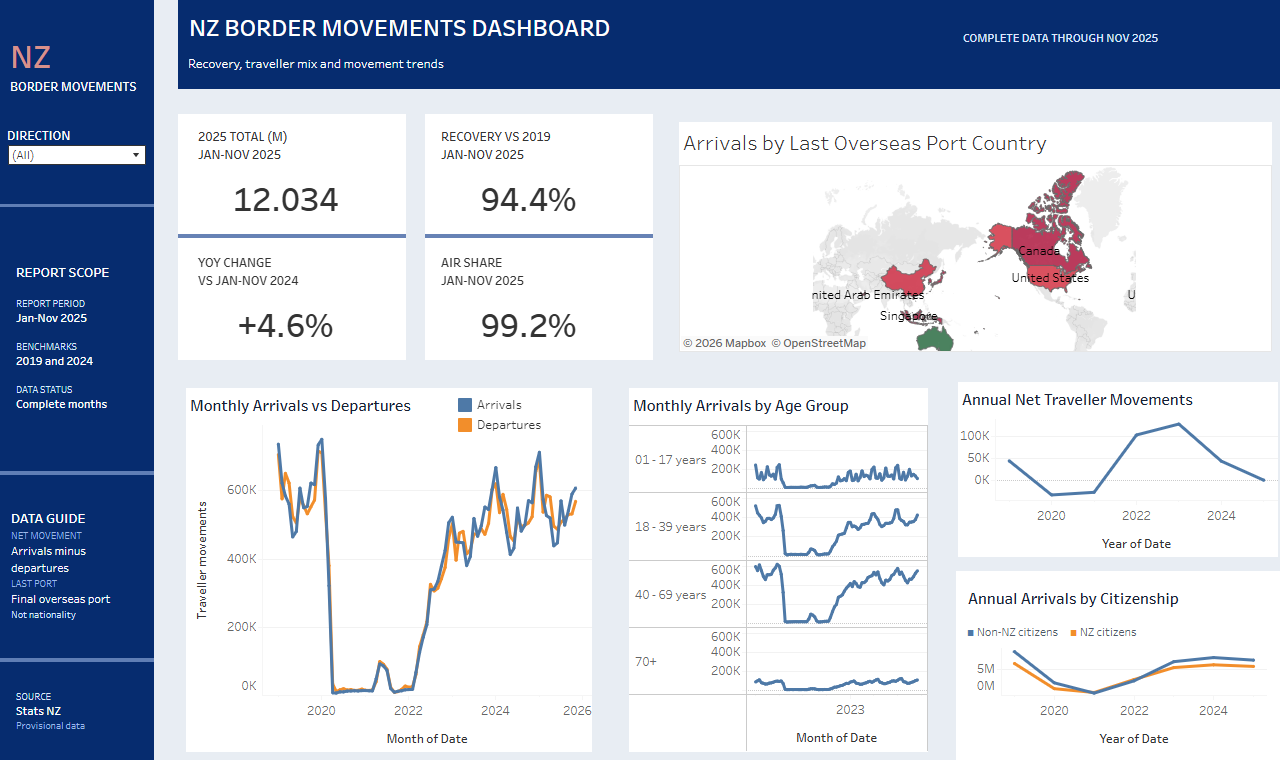

Layout of this report page (visuals, bound fields, positions):
{"tool":"tableau","page":{"name":"New Zealand Border Movement Recovery Monitor","canvas":[1280,760],"ordinal":1},"visuals":[{"type":"text","box":[0,0,154.1,760]},{"type":"text","box":[178.2,0,1101.8,89]},{"type":"text","box":[186.3,6.4,609.8,38.2]},{"type":"text","box":[10,13,127,102]},{"type":"text","box":[961,22.3,302.9,28.6]},{"type":"text","box":[186.3,50.9,549.5,23.8]},{"type":"text","box":[178.2,113.7,227.9,246.4]},{"type":"text","box":[424.9,113.7,227.9,246.4]},{"type":"worksheet","title":"Arrivals by Last Overseas Port Country","mark":"Automatic","box":[671.5,113.7,608.5,246.4]},{"type":"worksheet","title":"2025 Movements (M)","mark":"Automatic","box":[194,121,183,102]},{"type":"worksheet","title":"KPI Recovery vs 2019","mark":"Automatic","box":[437,121,183,102]},{"type":"filter","title":"Monthly Arrivals vs Departures","param":"[federated.0usvi7l1mmfuyz14ohd3u0z4gxtj].[none:direction_code:nk]","box":[7,126,140,50]},{"type":"blank","box":[193,129.6,198.4,91.4]},{"type":"blank","box":[439.6,129.6,198.4,103.3]},{"type":"text","box":[0,203.5,154.1,4]},{"type":"text","box":[12,221,127.3,230.5]},{"type":"text","box":[178.2,233.7,227.9,4]},{"type":"text","box":[425,234,228,4]},{"type":"worksheet","title":"KPI Change vs 2024","mark":"Automatic","rows":["citizenship"],"box":[194,247,183,102]},{"type":"worksheet","title":"KPI Air Share 2025","mark":"Automatic","box":[437,247,183,102]},{"type":"blank","box":[193,250.4,198.4,83.5]},{"type":"blank","box":[439.6,250.4,198.4,99.4]},{"type":"worksheet","title":"Monthly Arrivals vs Departures","mark":"Automatic","rows":["total_movements"],"cols":["date"],"box":[178.2,380,422.2,380]},{"type":"worksheet","title":"Monthly Arrivals by Age Group","mark":"Automatic","rows":["age_at_travel_range","total_movements"],"cols":["date"],"box":[620.6,380,315,380]},{"type":"worksheet","title":"Annual Net Traveller Movements","mark":"Automatic","rows":["Calculation_0304857685766144"],"cols":["date"],"box":[955.6,380,324.4,178.9]},{"type":"legend","title":"Monthly Arrivals vs Departures","param":"[federated.0usvi7l1mmfuyz14ohd3u0z4gxtj].[none:direction_code:nk]","box":[455,395,135,60]},{"type":"text","box":[0,471.4,154.1,4]},{"type":"text","box":[6.7,491.3,140.7,147.1]},{"type":"text","box":[955.6,570.8,324.4,189.2]},{"type":"text","box":[966.3,580.3,302.9,34.2]},{"type":"text","box":[966.3,614.5,302.9,31]},{"type":"worksheet","title":"Yearly Arrivals by Citizenship","mark":"Automatic","rows":["total_movements"],"cols":["date"],"box":[966.3,646.3,302.9,107.3]},{"type":"text","box":[0,658.2,154.1,4]},{"type":"text","box":[12,678.1,127.3,63.6]}]}

Visuals, with their boxes in screenshot pixels (x1, y1, x2, y2), scaled from the page's 1280x760 canvas onto the 1280x760 screenshot:
text: pyautogui.locateOnScreen(0, 0, 154, 759)
text: pyautogui.locateOnScreen(178, 0, 1279, 89)
text: pyautogui.locateOnScreen(186, 6, 796, 45)
text: pyautogui.locateOnScreen(10, 13, 137, 115)
text: pyautogui.locateOnScreen(961, 22, 1264, 51)
text: pyautogui.locateOnScreen(186, 51, 736, 75)
text: pyautogui.locateOnScreen(178, 114, 406, 360)
text: pyautogui.locateOnScreen(425, 114, 653, 360)
"Arrivals by Last Overseas Port Country" worksheet: pyautogui.locateOnScreen(672, 114, 1279, 360)
"2025 Movements (M)" worksheet: pyautogui.locateOnScreen(194, 121, 377, 223)
"KPI Recovery vs 2019" worksheet: pyautogui.locateOnScreen(437, 121, 620, 223)
"Monthly Arrivals vs Departures" filter: pyautogui.locateOnScreen(7, 126, 147, 176)
blank: pyautogui.locateOnScreen(193, 130, 391, 221)
blank: pyautogui.locateOnScreen(440, 130, 638, 233)
text: pyautogui.locateOnScreen(0, 204, 154, 208)
text: pyautogui.locateOnScreen(12, 221, 139, 452)
text: pyautogui.locateOnScreen(178, 234, 406, 238)
text: pyautogui.locateOnScreen(425, 234, 653, 238)
"KPI Change vs 2024" worksheet: pyautogui.locateOnScreen(194, 247, 377, 349)
"KPI Air Share 2025" worksheet: pyautogui.locateOnScreen(437, 247, 620, 349)
blank: pyautogui.locateOnScreen(193, 250, 391, 334)
blank: pyautogui.locateOnScreen(440, 250, 638, 350)
"Monthly Arrivals vs Departures" worksheet: pyautogui.locateOnScreen(178, 380, 600, 759)
"Monthly Arrivals by Age Group" worksheet: pyautogui.locateOnScreen(621, 380, 936, 759)
"Annual Net Traveller Movements" worksheet: pyautogui.locateOnScreen(956, 380, 1279, 559)
"Monthly Arrivals vs Departures" legend: pyautogui.locateOnScreen(455, 395, 590, 455)
text: pyautogui.locateOnScreen(0, 471, 154, 475)
text: pyautogui.locateOnScreen(7, 491, 147, 638)
text: pyautogui.locateOnScreen(956, 571, 1279, 759)
text: pyautogui.locateOnScreen(966, 580, 1269, 614)
text: pyautogui.locateOnScreen(966, 614, 1269, 646)
"Yearly Arrivals by Citizenship" worksheet: pyautogui.locateOnScreen(966, 646, 1269, 754)
text: pyautogui.locateOnScreen(0, 658, 154, 662)
text: pyautogui.locateOnScreen(12, 678, 139, 742)
